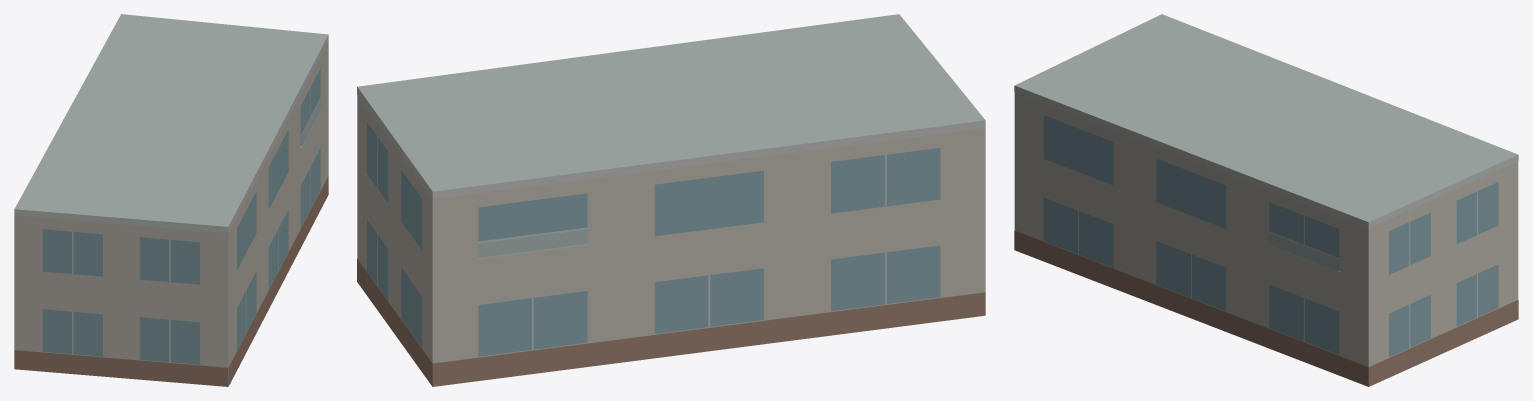
File: survey-upis-32975635.glb
3 views of the same model, side by side, from view 1: azimuth 30°, elevation 25°; view 2: azimuth 150°, elevation 25°; view 3: azimuth 270°, elevation 25° (orthographic). The views are drawn at different scales.
Parts seen in each view (by area): view 1: survey-upis-32975635.tmp; view 2: survey-upis-32975635.tmp; view 3: survey-upis-32975635.tmp.
Part boxes in pixels (left/top/right/bottom): survey-upis-32975635.tmp: left=14, top=14, right=328, bottom=386; survey-upis-32975635.tmp: left=357, top=14, right=985, bottom=386; survey-upis-32975635.tmp: left=1014, top=14, right=1518, bottom=386.
Size of the model in its own units: 16.55 by 6.1 by 16.93.
